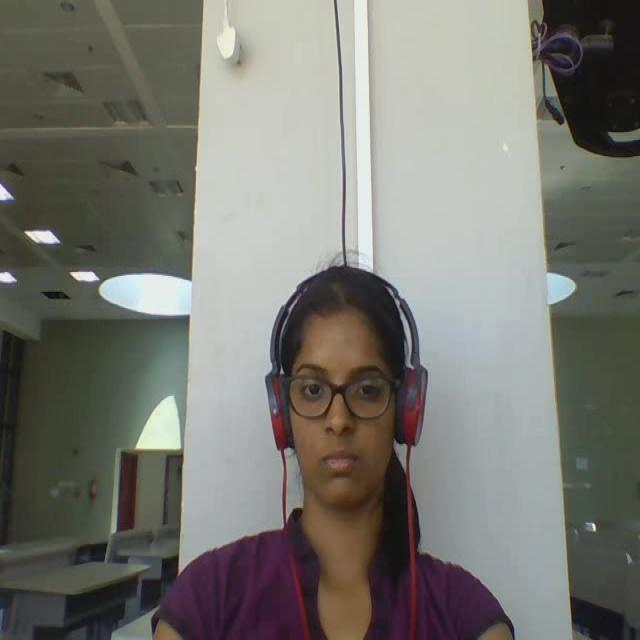Engaged: (255, 244, 450, 538)
